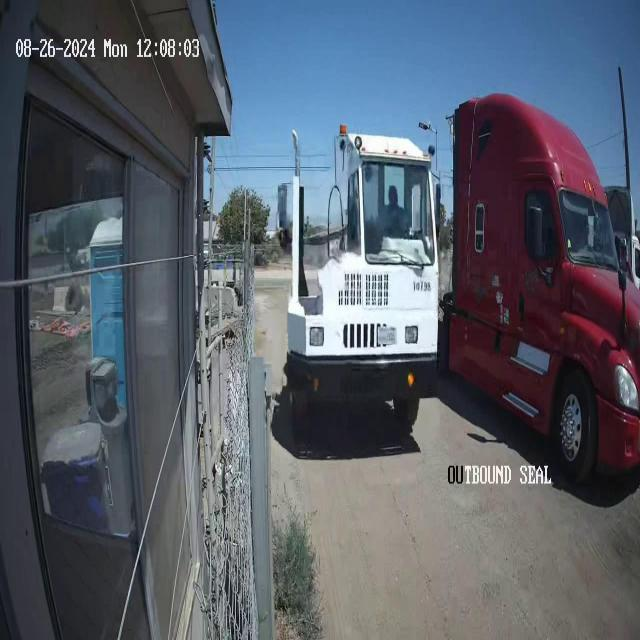TRUCK_IN: (444, 87, 639, 486)
